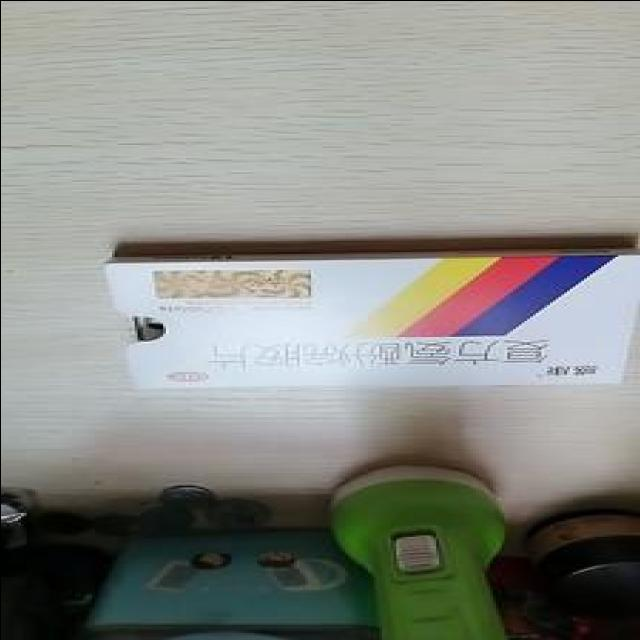-Recyclables - paper box-: (100, 252, 640, 387)
